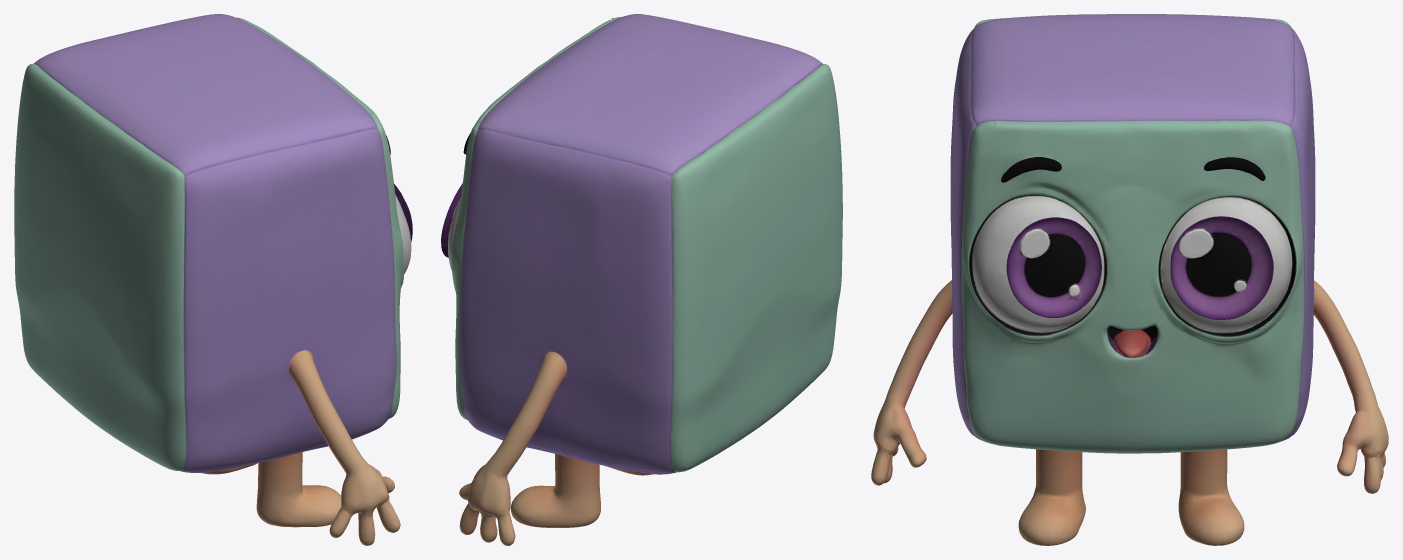
Rendered from wubb.glb.
3 renders of one model, left to right at view 1: azimuth 30°, elevation 25°; view 2: azimuth 150°, elevation 25°; view 3: azimuth 270°, elevation 25°, orthographic. The views are drawn at different scales.
Parts seen in each view (by area): view 1: tripo_node_e6f43805-6402-4e2c-9f50-b8ac0ec8b52d; view 2: tripo_node_e6f43805-6402-4e2c-9f50-b8ac0ec8b52d; view 3: tripo_node_e6f43805-6402-4e2c-9f50-b8ac0ec8b52d.
Boxes of the visible parts, box(x1,y1,x2,y2) form: tripo_node_e6f43805-6402-4e2c-9f50-b8ac0ec8b52d: box(14, 14, 412, 545); tripo_node_e6f43805-6402-4e2c-9f50-b8ac0ec8b52d: box(441, 14, 842, 545); tripo_node_e6f43805-6402-4e2c-9f50-b8ac0ec8b52d: box(871, 14, 1388, 545).
Bounding box in the file's own units: 0.6389 × 0.9514 × 1.
Materials: 1 (1 with a texture image).
